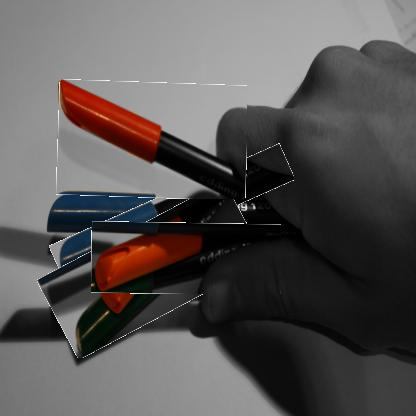Pen: (42, 203, 262, 337), (57, 80, 248, 199), (47, 168, 296, 257), (92, 222, 282, 295)
